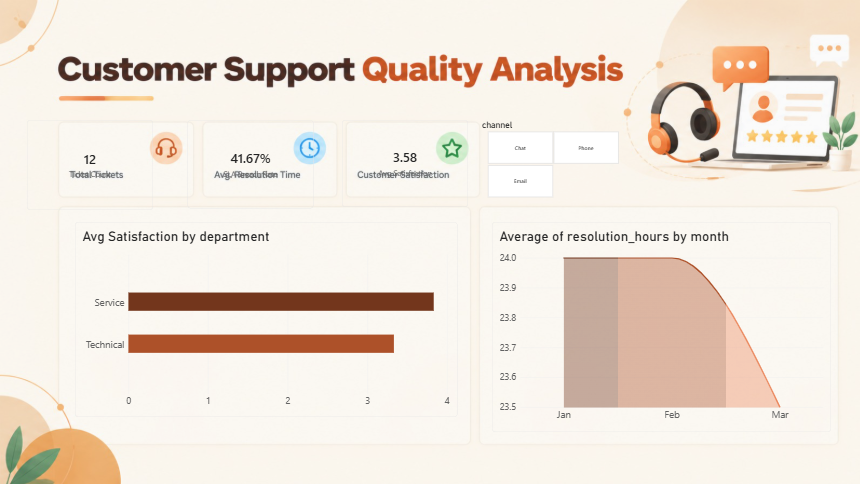

Layout of this report page (visuals, bound fields, positions):
{"tool":"powerbi","page":{"name":"Page 1","canvas":[1920,1080],"ordinal":0},"visuals":[{"type":"card","fields":{"Values":["Measures Table.Ticket Count"]},"box":[83.3,40,280,200],"z":0},{"type":"card","fields":{"Values":["Measures Table.SLA Breach Rate"]},"box":[413.3,43.3,280,196.7],"z":1000},{"type":"card","fields":{"Values":["Measures Table.Avg Satisfaction"]},"box":[736.7,46.7,280,193.3],"z":2000},{"type":"clusteredBarChart","fields":{"Category":["teams.department"],"Y":["Measures Table.Avg Satisfaction"]},"box":[83.3,283.3,933.3,760],"z":3000},{"type":"lineChart","fields":{"Category":["tickets.month"],"Y":["Avg(tickets.resolution_hours)"]},"box":[1063.3,350,810,693.3],"z":4000},{"type":"slicer","fields":{"Values":["tickets.channel"]},"box":[1063.3,46.7,810,276.7],"z":4001}]}

Visuals, with their boxes in screenshot pixels (x1, y1, x2, y2), scaled from the page's 1920x1080 canvas onto the 860x484 screenshot:
card - Measures Table.Ticket Count: x1=37 y1=18 x2=163 y2=108
card - Measures Table.SLA Breach Rate: x1=185 y1=19 x2=311 y2=108
card - Measures Table.Avg Satisfaction: x1=330 y1=21 x2=455 y2=108
clusteredBarChart - teams.department x Measures Table.Avg Satisfaction: x1=37 y1=127 x2=455 y2=468
lineChart - tickets.month x Avg(tickets.resolution_hours): x1=476 y1=157 x2=839 y2=468
slicer - tickets.channel: x1=476 y1=21 x2=839 y2=145
